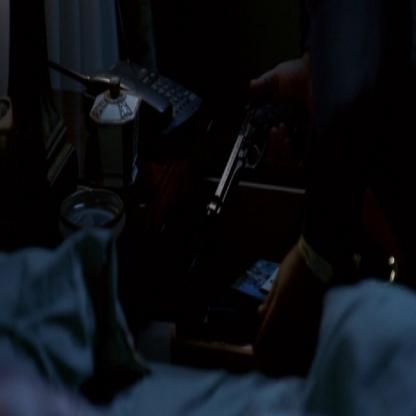Gun: (201, 92, 295, 228)
